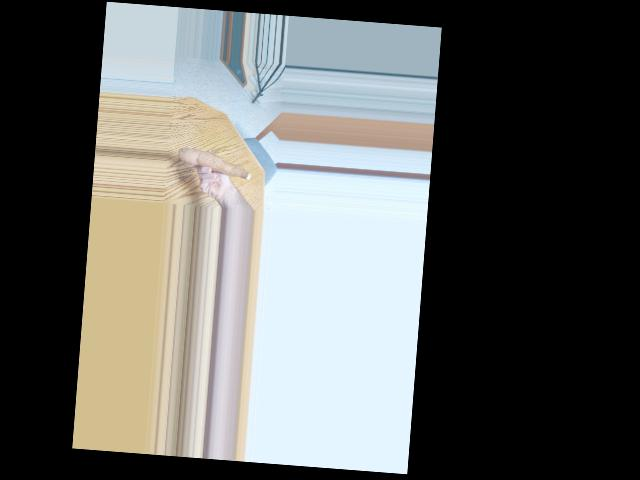sweet_potato: (178, 143, 252, 184)
